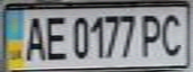0: (66, 12, 90, 61)
1: (87, 12, 106, 59)
7: (118, 11, 139, 58), (103, 11, 121, 58)
A: (21, 12, 48, 62)
C: (157, 10, 190, 57)
E: (42, 12, 69, 62)
P: (136, 11, 166, 58)
